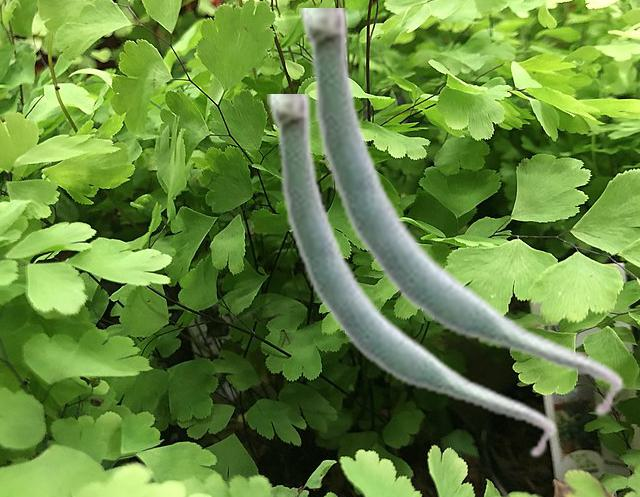french_bean: (299, 8, 624, 418), (267, 94, 556, 459)
